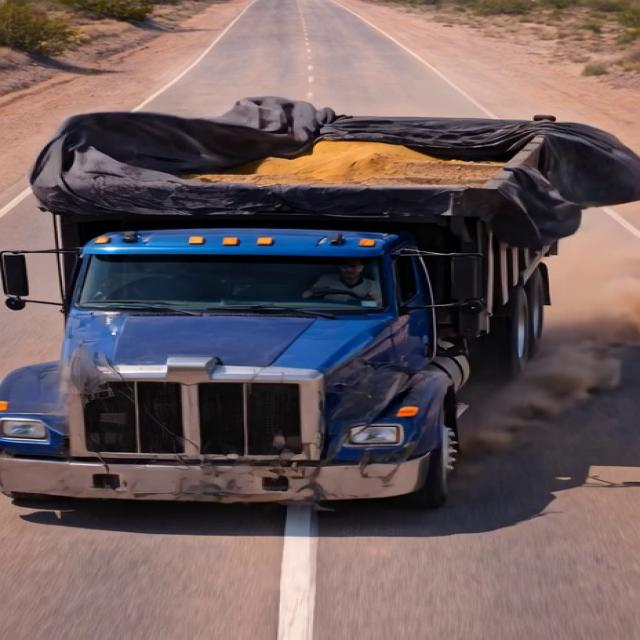Box: (30, 106, 628, 204)
Truck: (0, 75, 632, 529)
